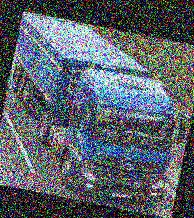truck: (0, 15, 194, 210)
